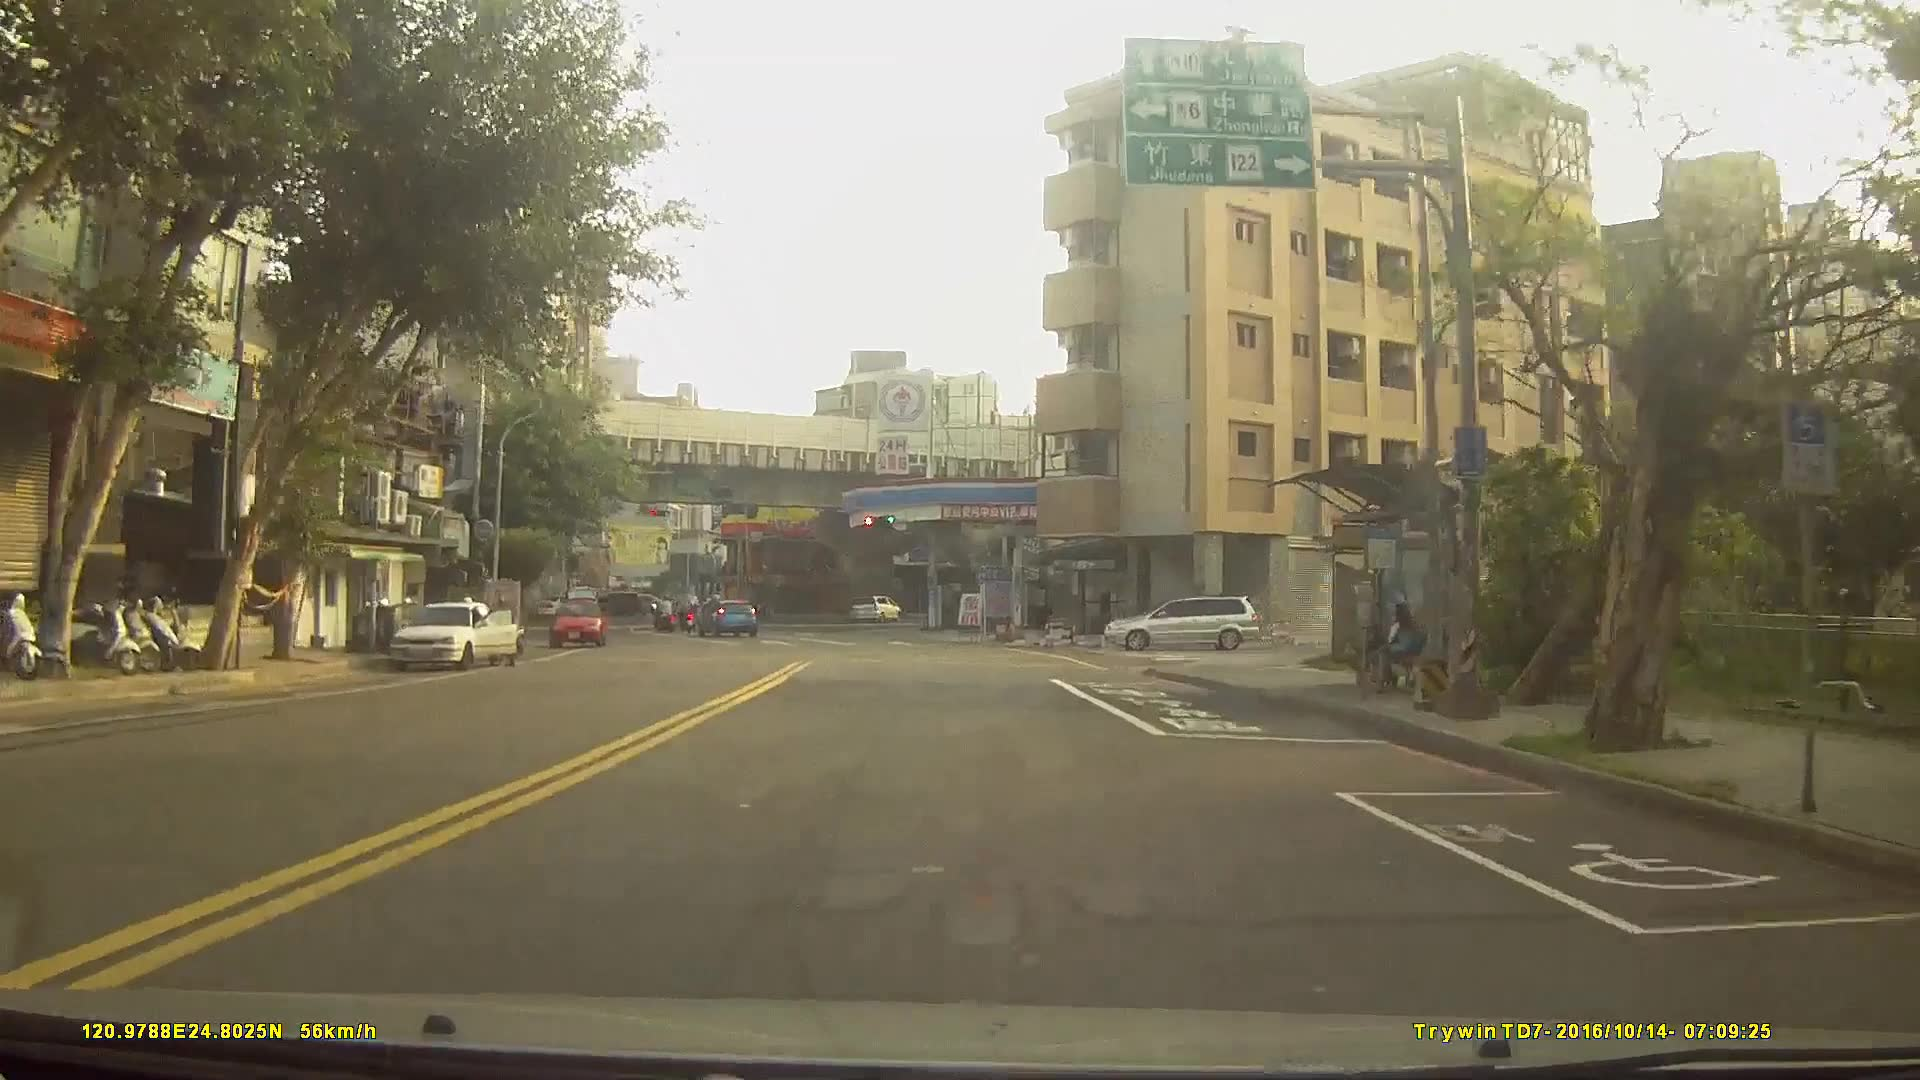pedestrian: (1380, 602, 1425, 695)
rider: (652, 595, 679, 637)
vehicle: (388, 596, 518, 672), (1103, 595, 1259, 653), (548, 596, 609, 648), (691, 596, 757, 639), (582, 589, 639, 619), (848, 595, 901, 624)
